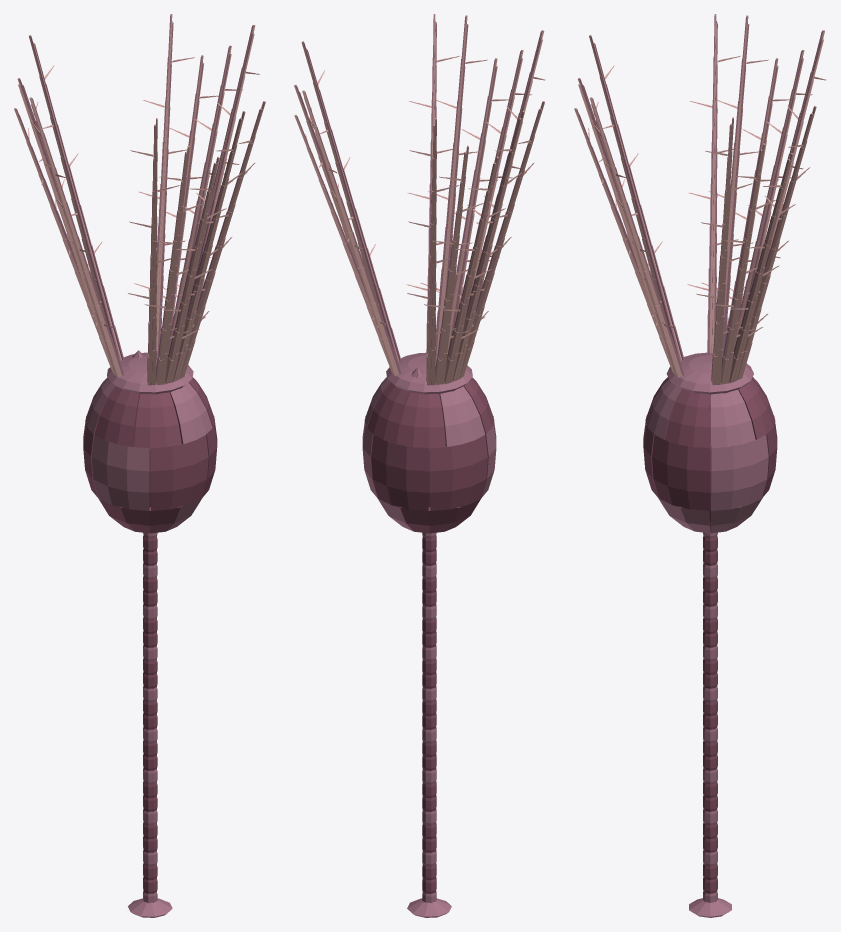
File: caryocrinites.glb
3 views of the same model, side by side, from view 1: azimuth 30°, elevation 25°; view 2: azimuth 150°, elevation 25°; view 3: azimuth 270°, elevation 25° (orthographic).
Visible parts, largest first — view 1: caryocrinites-original-volume; view 2: caryocrinites-original-volume; view 3: caryocrinites-original-volume.
Boxes of the visible parts, x1,y1,x2,y2 form: caryocrinites-original-volume: [14, 14, 265, 917]; caryocrinites-original-volume: [294, 14, 545, 917]; caryocrinites-original-volume: [574, 14, 826, 917].
Bounding box in the file's own units: 0.0448 × 0.1553 × 0.0419.
